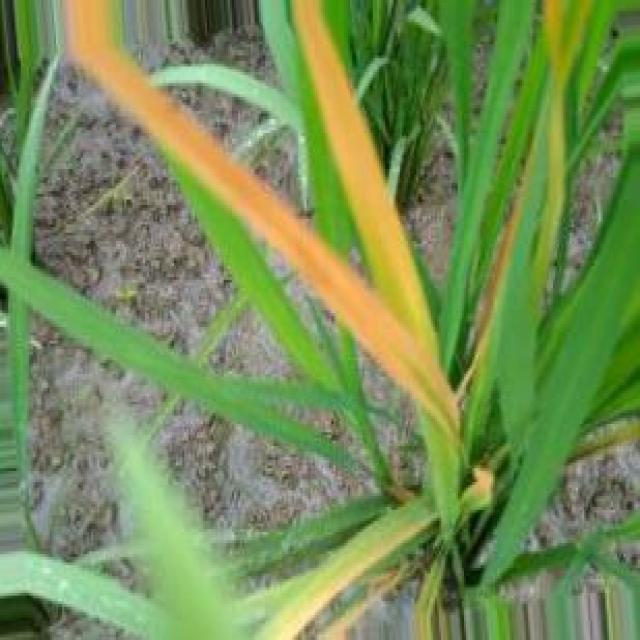Rice Tungro: (66, 0, 456, 447), (294, 2, 439, 365), (259, 497, 436, 638), (534, 0, 589, 292)
